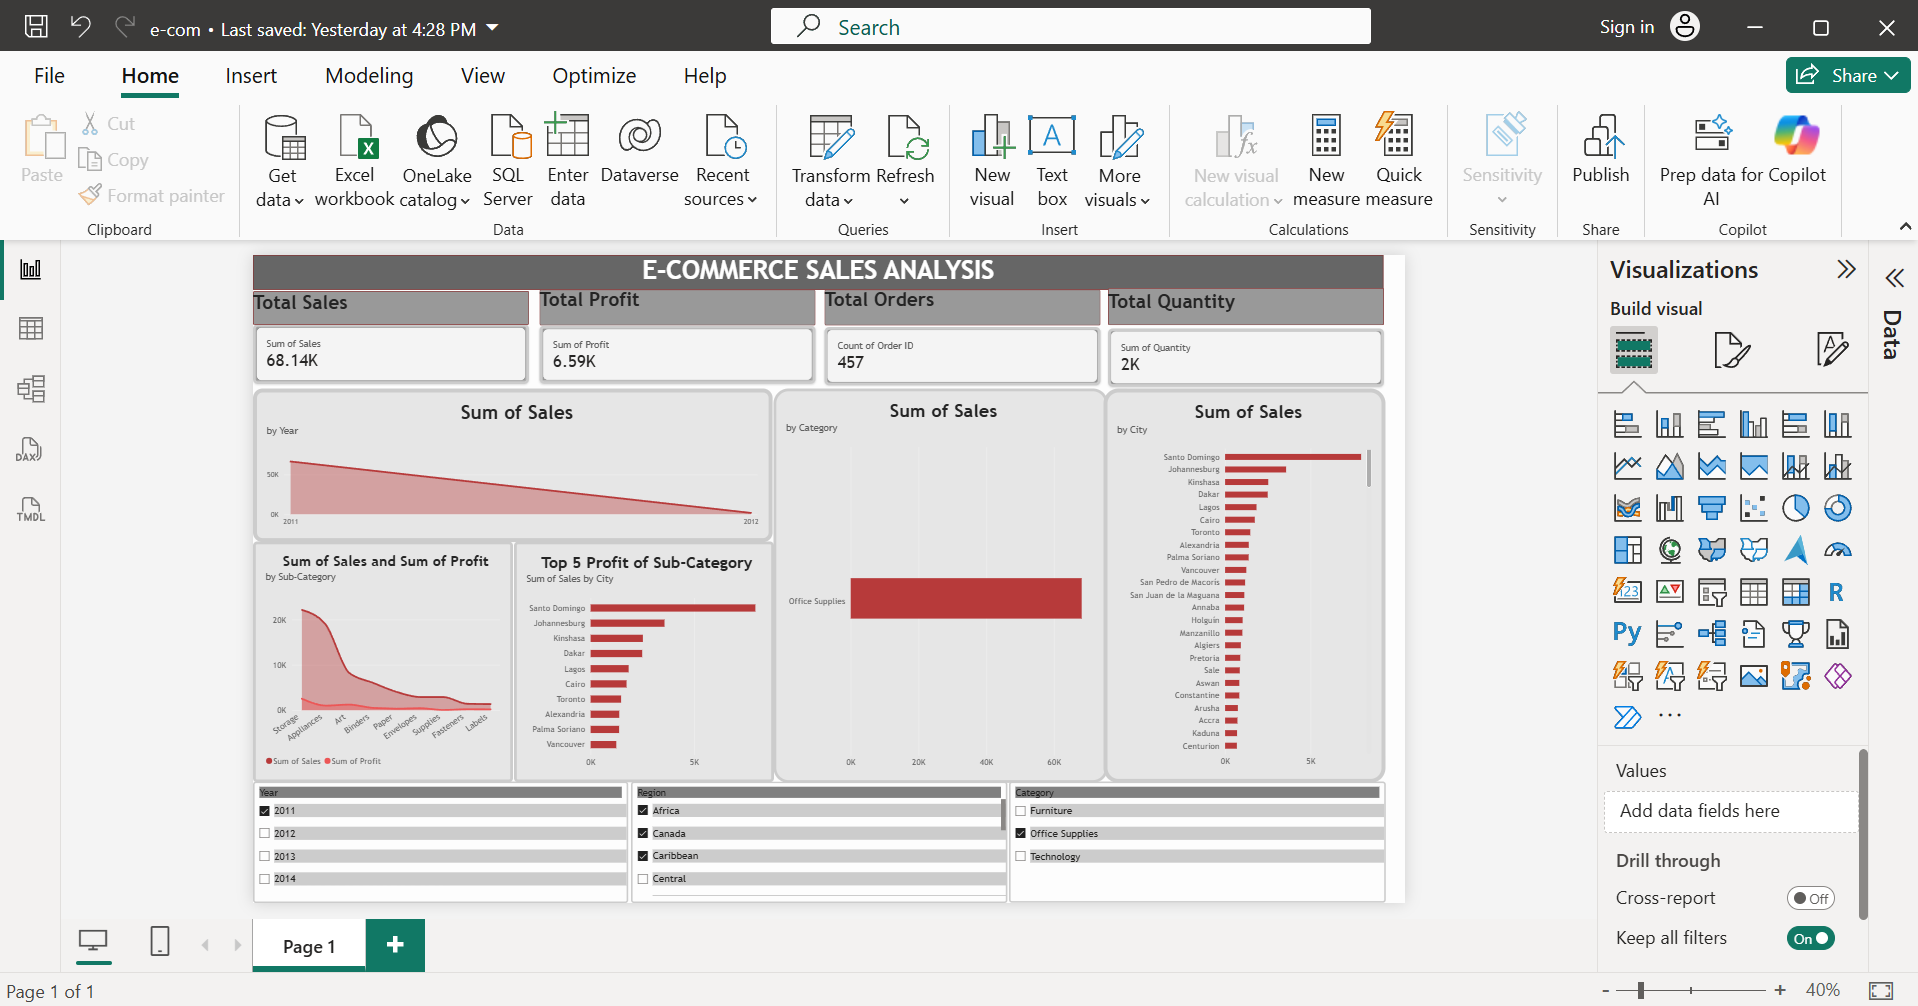

This screenshot's page, from the dashboard's own definition file:
{"tool":"powerbi","page":{"name":"Page 1","canvas":[1920,1080],"ordinal":0},"visuals":[{"type":"shape","box":[0,0,1884,58],"z":0},{"type":"textbox","box":[0,0,1883.9,58.7],"z":1000},{"type":"cardVisual","fields":{"Data":["Sum(Orders.Sales)"]},"box":[0,115,460,100],"z":2000},{"type":"shape","box":[0,60.9,460.3,56.4],"z":3000},{"type":"shape","box":[478,58,460,60],"z":4000},{"type":"shape","box":[952,58,460,60],"z":5000},{"type":"shape","box":[1424,56,460,62],"z":6000},{"type":"textbox","box":[0,60.9,460.3,56.4],"z":7000},{"type":"textbox","box":[478,56,460,62],"z":8000},{"type":"textbox","box":[952,56,460,62],"z":9000},{"type":"textbox","box":[1424,58,460,60],"z":10000},{"type":"cardVisual","fields":{"Data":["Sum(Orders.Profit)"]},"box":[478,118,460.3,97],"z":11000},{"type":"cardVisual","fields":{"Data":["Count(Orders.Order ID)"]},"box":[952,120,460.3,97],"z":12000},{"type":"cardVisual","fields":{"Data":["Sum(Orders.Quantity)"]},"box":[1424,122,460.3,97],"z":13000},{"type":"areaChart","fields":{"Category":["Orders.Ship Date.Variation.Date Hierarchy.Year"],"Y":["Sum(Orders.Sales)"]},"box":[0,221.7,866.3,256],"z":14000},{"type":"barChart","fields":{"Category":["Orders.Category"],"Y":["Sum(Orders.Sales)"]},"box":[867.5,222.5,557.5,657.5],"z":15000},{"type":"barChart","fields":{"Category":["Orders.City"],"Y":["Sum(Orders.Sales)"]},"box":[1417.5,222.5,470,657.5],"z":16000},{"type":"areaChart","fields":{"Category":["Orders.Sub-Category"],"Y":["Sum(Orders.Sales)","Sum(Orders.Profit)"]},"box":[0,477.7,433.2,401.6],"z":17000},{"type":"barChart","title":"Top 5 Profit of Sub-Category","fields":{"Category":["Orders.City"],"Y":["Sum(Orders.Sales)"]},"box":[434.3,477.7,433.2,401.6],"z":18000},{"type":"slicer","fields":{"Values":["Orders.Order Date.Variation.Date Hierarchy.Year"]},"box":[0,877.5,625,202.5],"z":19000},{"type":"slicer","fields":{"Values":["Orders.Region"]},"box":[630,877.5,627.5,202.5],"z":19001},{"type":"slicer","fields":{"Values":["Orders.Category"]},"box":[1260,877.5,628,202],"z":19002}]}

Visuals, with their boxes on the page's 1920x1080 design canvas (x1, y1, x2, y2). These are canvas units, not pixel positions in the 1918x1006 screenshot, which may show the page scaled, cropped or inside an application window:
shape: rect(0, 0, 1884, 58)
textbox: rect(0, 0, 1884, 59)
cardVisual - Sum(Orders.Sales): rect(0, 115, 460, 215)
shape: rect(0, 61, 460, 117)
shape: rect(478, 58, 938, 118)
shape: rect(952, 58, 1412, 118)
shape: rect(1424, 56, 1884, 118)
textbox: rect(0, 61, 460, 117)
textbox: rect(478, 56, 938, 118)
textbox: rect(952, 56, 1412, 118)
textbox: rect(1424, 58, 1884, 118)
cardVisual - Sum(Orders.Profit): rect(478, 118, 938, 215)
cardVisual - Count(Orders.Order ID): rect(952, 120, 1412, 217)
cardVisual - Sum(Orders.Quantity): rect(1424, 122, 1884, 219)
areaChart - Orders.Ship Date.Variation.Date Hierarchy.Year x Sum(Orders.Sales): rect(0, 222, 866, 478)
barChart - Orders.Category x Sum(Orders.Sales): rect(868, 222, 1425, 880)
barChart - Orders.City x Sum(Orders.Sales): rect(1418, 222, 1888, 880)
areaChart - Orders.Sub-Category x Sum(Orders.Sales): rect(0, 478, 433, 879)
"Top 5 Profit of Sub-Category" barChart: rect(434, 478, 868, 879)
slicer - Orders.Order Date.Variation.Date Hierarchy.Year: rect(0, 878, 625, 1080)
slicer - Orders.Region: rect(630, 878, 1258, 1080)
slicer - Orders.Category: rect(1260, 878, 1888, 1080)
